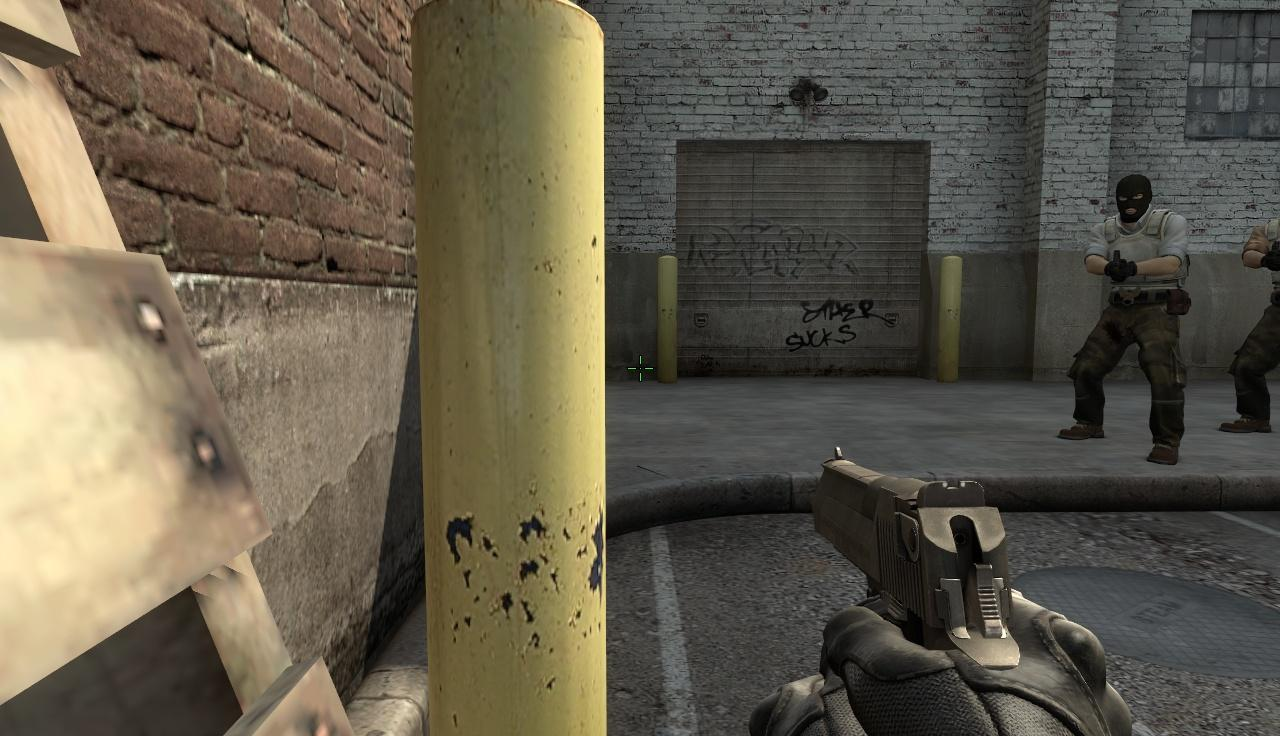pistol: (807, 439, 1119, 736)
tt: (1084, 174, 1186, 467), (1238, 215, 1280, 432)
tthead: (1115, 173, 1152, 222)
